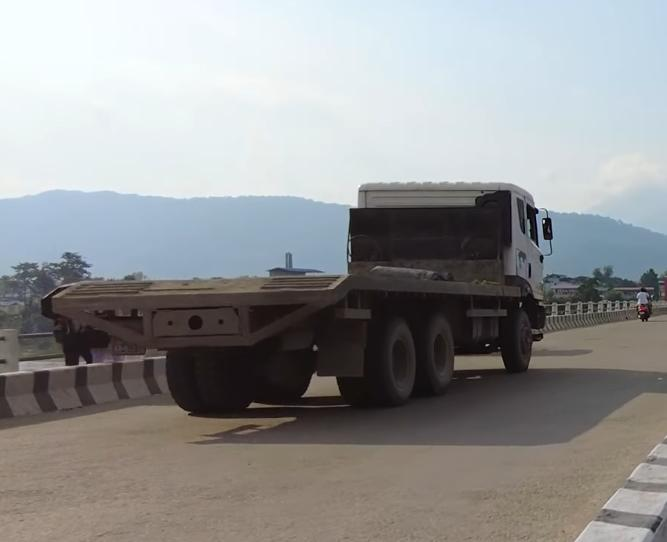truck: (39, 179, 553, 414)
